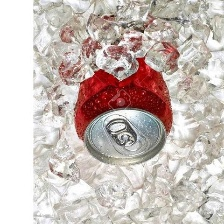can: (67, 58, 174, 168)
